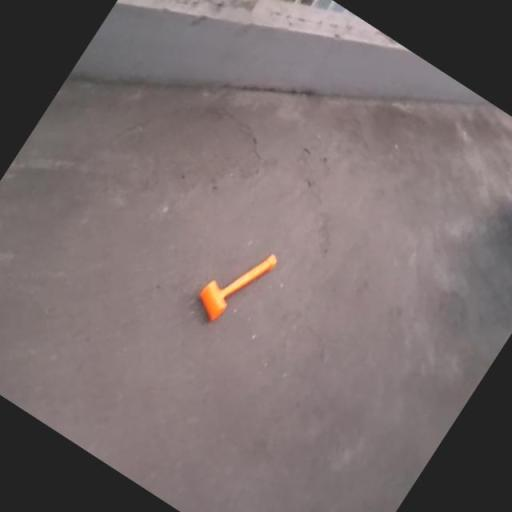mallet: (190, 231, 279, 334)
